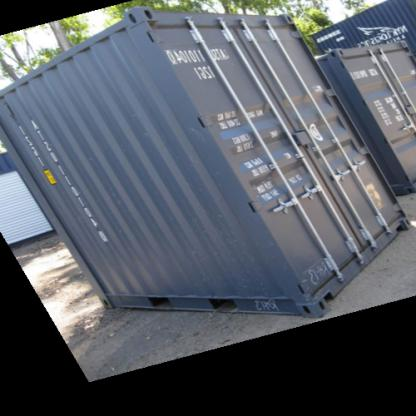Damage: (301, 250, 336, 298), (184, 119, 212, 145), (250, 296, 280, 312)
